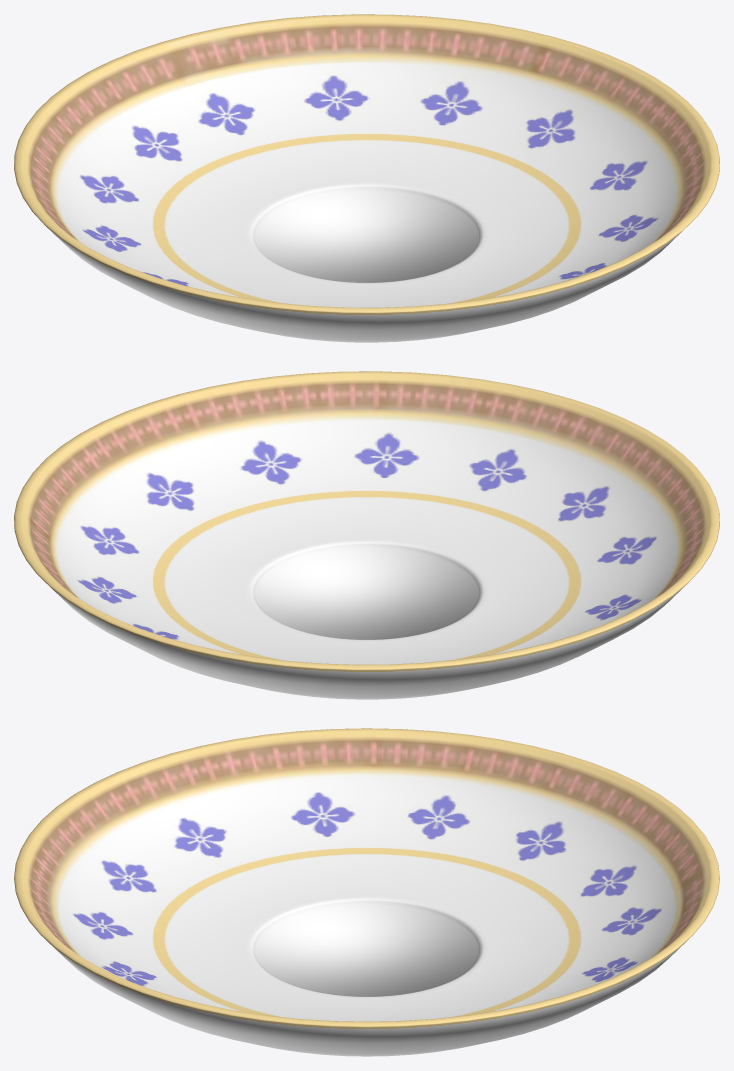
File: stapel.glb
3 views of the same model, one above another, from view 1: azimuth 30°, elevation 25°; view 2: azimuth 150°, elevation 25°; view 3: azimuth 270°, elevation 25° (orthographic).
Visible parts, largest first — view 1: cup; view 2: cup; view 3: cup.
Part boxes in pixels (x1,y1,x2,y2): cup: (14,14,719,342); cup: (14,371,719,699); cup: (14,728,719,1056).
Size of the model in its own units: 2 by 0.3625 by 2.
1 material, 1 textured.
